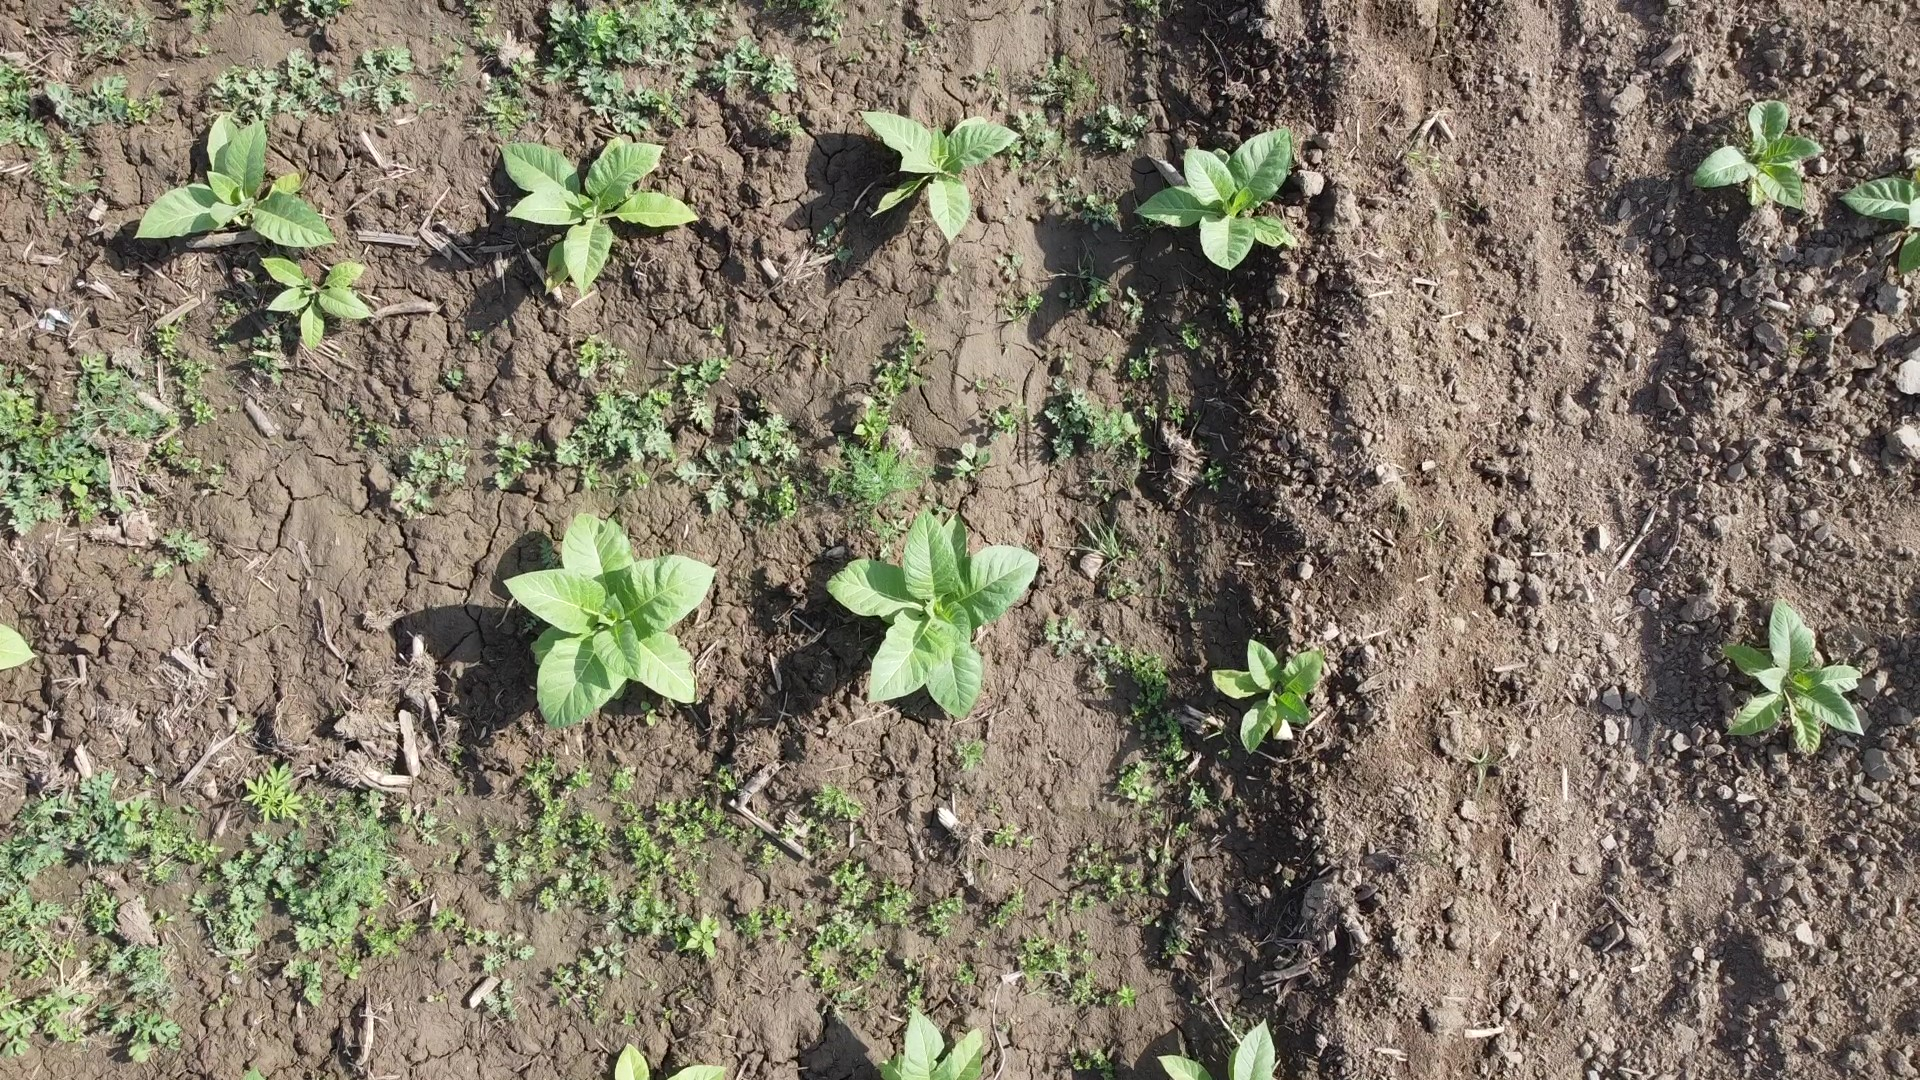weed: (502, 512, 719, 731), (824, 508, 1042, 720), (498, 136, 703, 299), (132, 111, 339, 249), (1131, 125, 1299, 272), (1716, 596, 1866, 754), (857, 108, 1023, 245), (1692, 99, 1825, 211), (1211, 638, 1325, 756), (260, 257, 375, 352), (1837, 175, 1920, 277), (878, 1002, 985, 1080), (1156, 1017, 1276, 1080), (613, 1042, 728, 1080), (0, 622, 38, 673), (1874, 162, 1876, 165)
